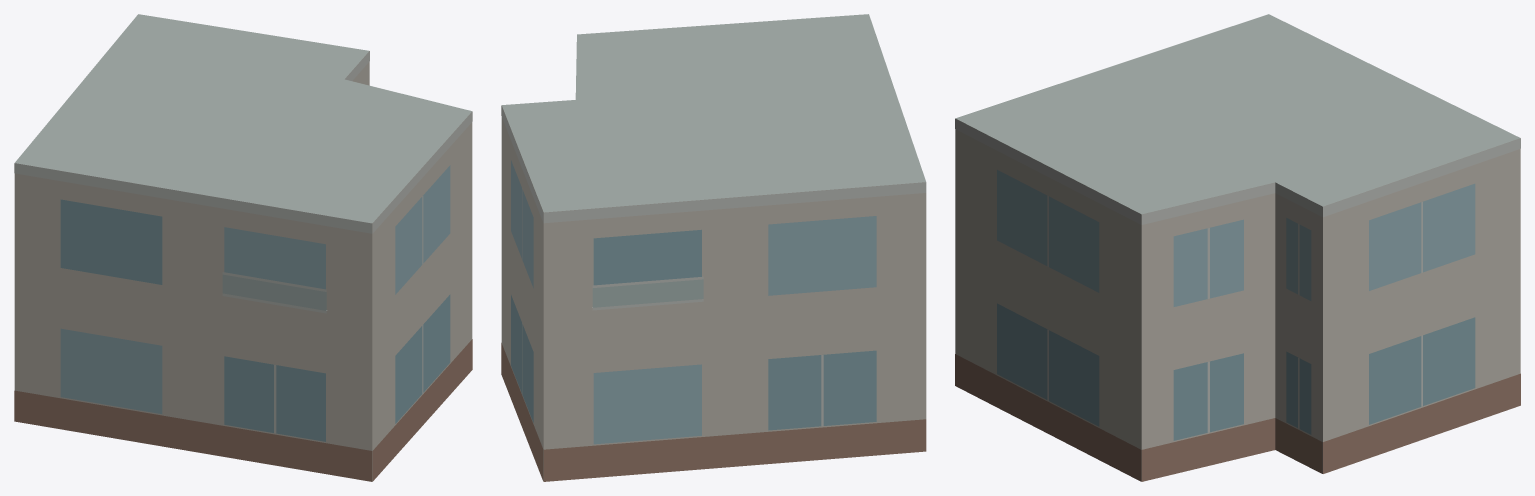
The model's file is survey-upis-32728006.glb.
3 views of the same model, side by side, from view 1: azimuth 30°, elevation 25°; view 2: azimuth 150°, elevation 25°; view 3: azimuth 270°, elevation 25° (orthographic). The views are drawn at different scales.
Visible parts, largest first — view 1: survey-upis-32728006.tmp; view 2: survey-upis-32728006.tmp; view 3: survey-upis-32728006.tmp.
Boxes of the visible parts, box(x1,y1,x2,y2) form: survey-upis-32728006.tmp: box(14, 14, 472, 481); survey-upis-32728006.tmp: box(501, 14, 926, 481); survey-upis-32728006.tmp: box(955, 14, 1520, 481).
Size of the model in its own units: 9.81 by 6.1 by 11.7.
